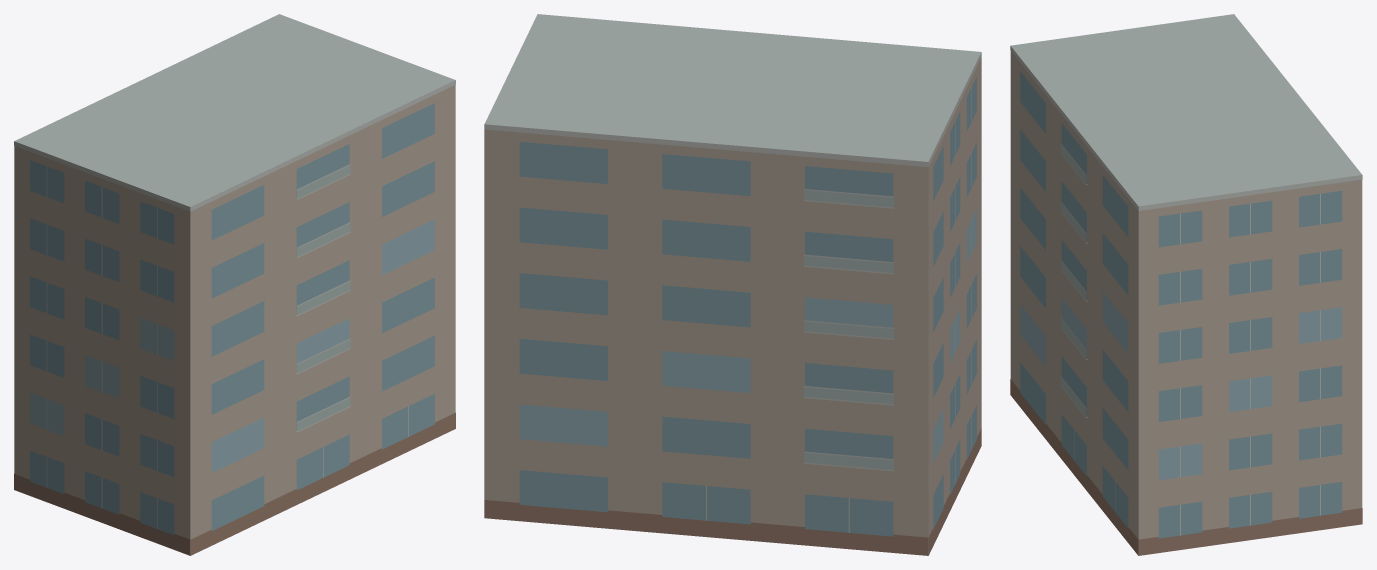
Rendered from survey-upis-32739893.glb.
3 renders of one model, left to right at view 1: azimuth 30°, elevation 25°; view 2: azimuth 150°, elevation 25°; view 3: azimuth 270°, elevation 25°, orthographic. The views are drawn at different scales.
Parts seen in each view (by area): view 1: survey-upis-32739893.tmp; view 2: survey-upis-32739893.tmp; view 3: survey-upis-32739893.tmp.
Part boxes in pixels (bbox=[...]): survey-upis-32739893.tmp: bbox=[14, 14, 455, 555]; survey-upis-32739893.tmp: bbox=[484, 14, 981, 555]; survey-upis-32739893.tmp: bbox=[1010, 14, 1362, 555].
Bounding box in the file's own units: 21.99 × 18.6 × 16.99.
